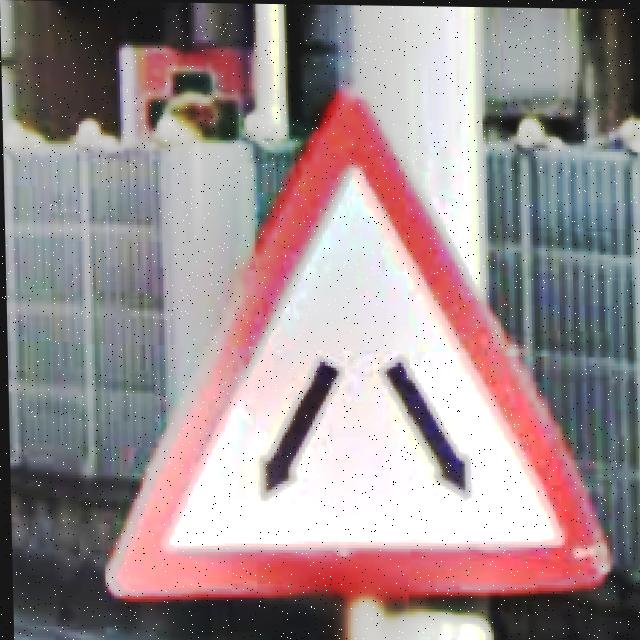diverge: (103, 93, 608, 601)
